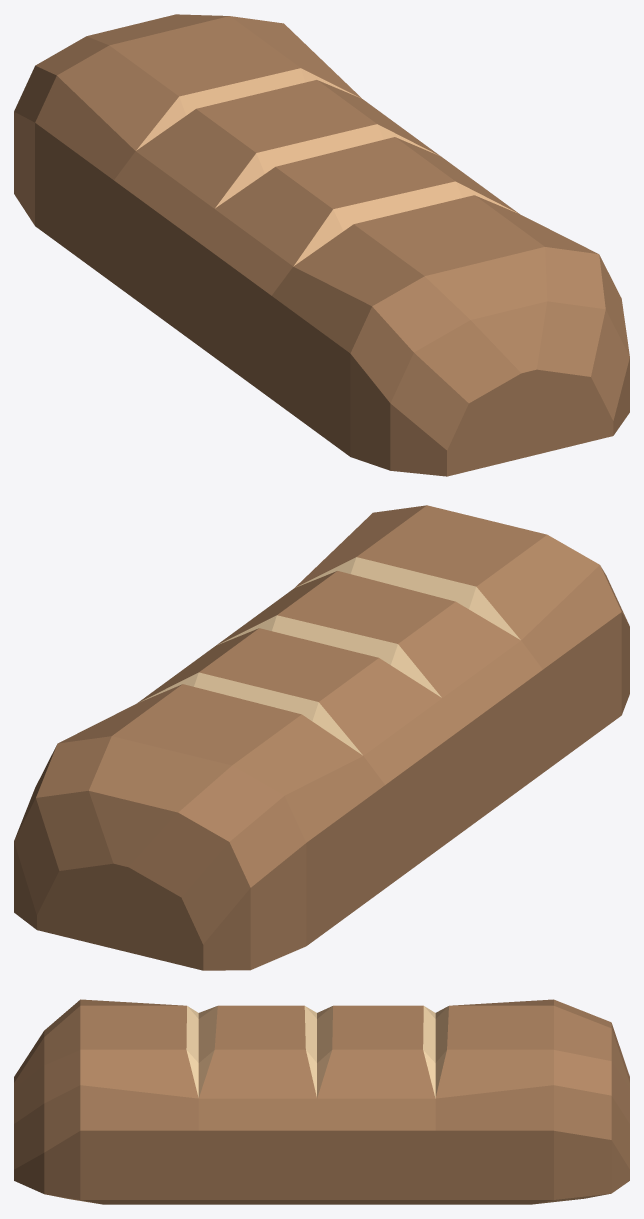
Rendered from Bread_01.glb.
3 renders of one model, top to bottom at view 1: azimuth 30°, elevation 25°; view 2: azimuth 150°, elevation 25°; view 3: azimuth 270°, elevation 25°, orthographic. The views are drawn at different scales.
Visible parts, largest first — view 1: Bread_01; view 2: Bread_01; view 3: Bread_01.
Part boxes in pixels (x1,y1,x2,y2): Bread_01: (14,14,629,476); Bread_01: (14,505,629,970); Bread_01: (14,999,629,1204).
Size of what is drawn, in the model's own units: 0.1166 by 0.0717 by 0.3053.
1 material, 1 textured.
